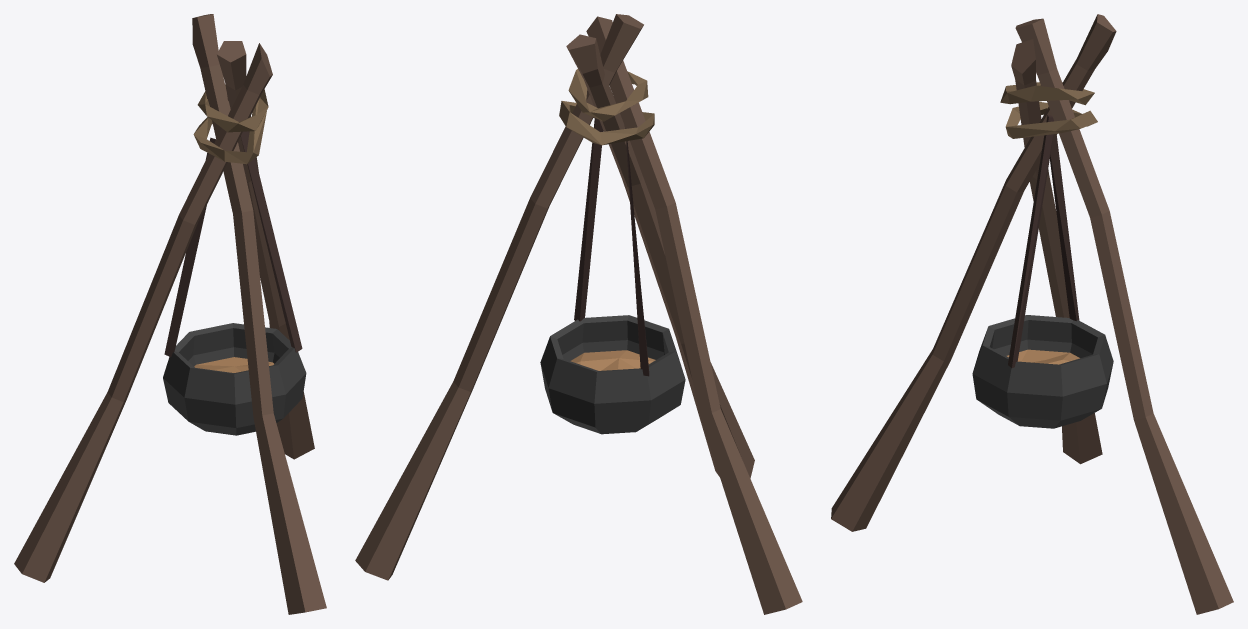
Rendered from FireTriangleWithPot.fbx.
The picture shows the model from 3 angles, left to right: view 1: azimuth 30°, elevation 25°; view 2: azimuth 150°, elevation 25°; view 3: azimuth 270°, elevation 25°; orthographic projection. The views are drawn at different scales.
Visible parts, largest first — view 1: FireTriangleWithPot; view 2: FireTriangleWithPot; view 3: FireTriangleWithPot.
Boxes of the visible parts, left/top/right/bottom form: FireTriangleWithPot: left=14, top=14, right=326, bottom=614; FireTriangleWithPot: left=355, top=14, right=802, bottom=614; FireTriangleWithPot: left=831, top=14, right=1233, bottom=614.
Bounding box in the file's own units: 1.08 × 1.03 × 1.49.
